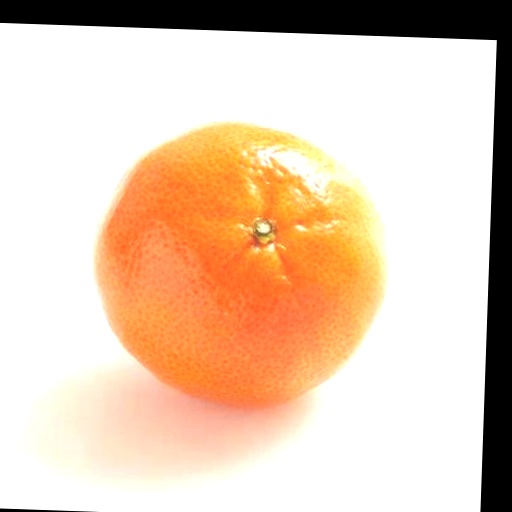fruit: (93, 122, 387, 407)
